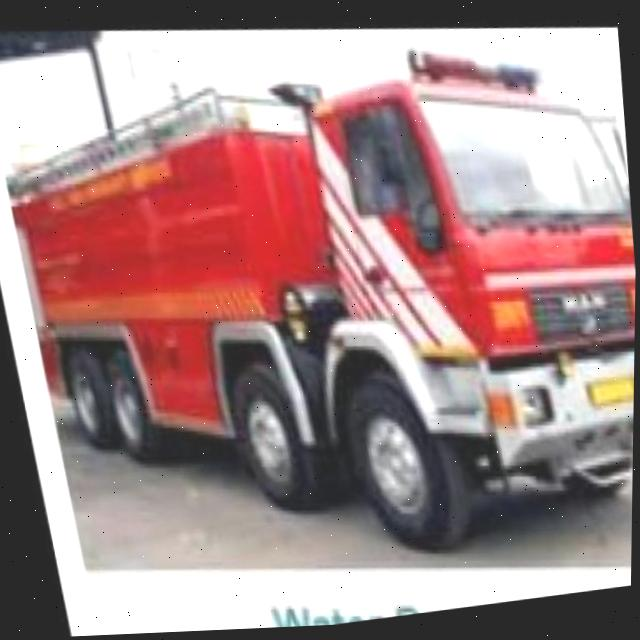emergency: (0, 21, 639, 604)
